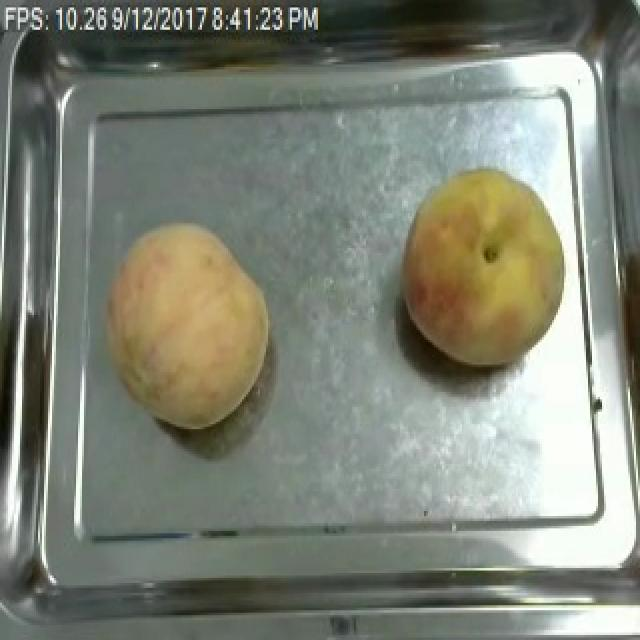Fruit: (90, 211, 278, 436), (392, 158, 580, 374)
